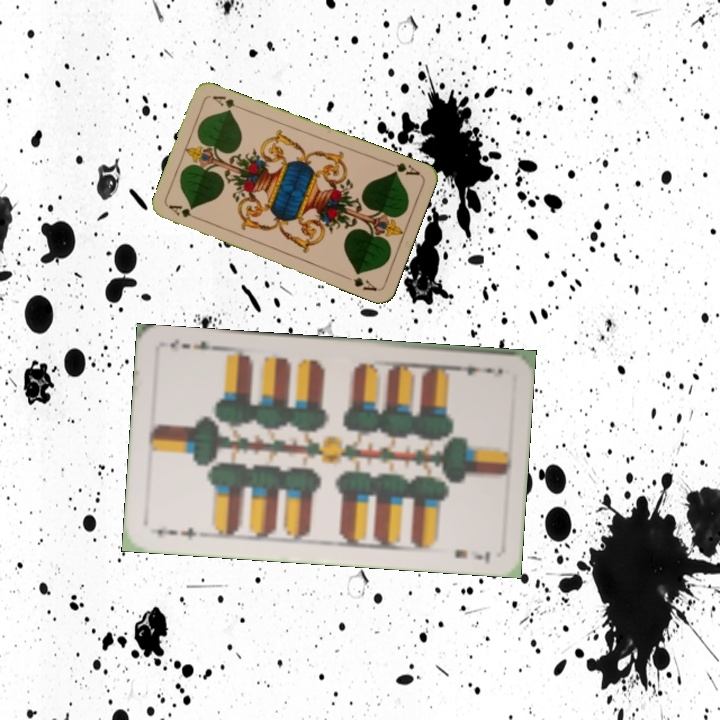E7: (152, 522, 200, 543), (449, 361, 496, 378)
GA: (165, 201, 203, 223), (383, 158, 422, 178)
